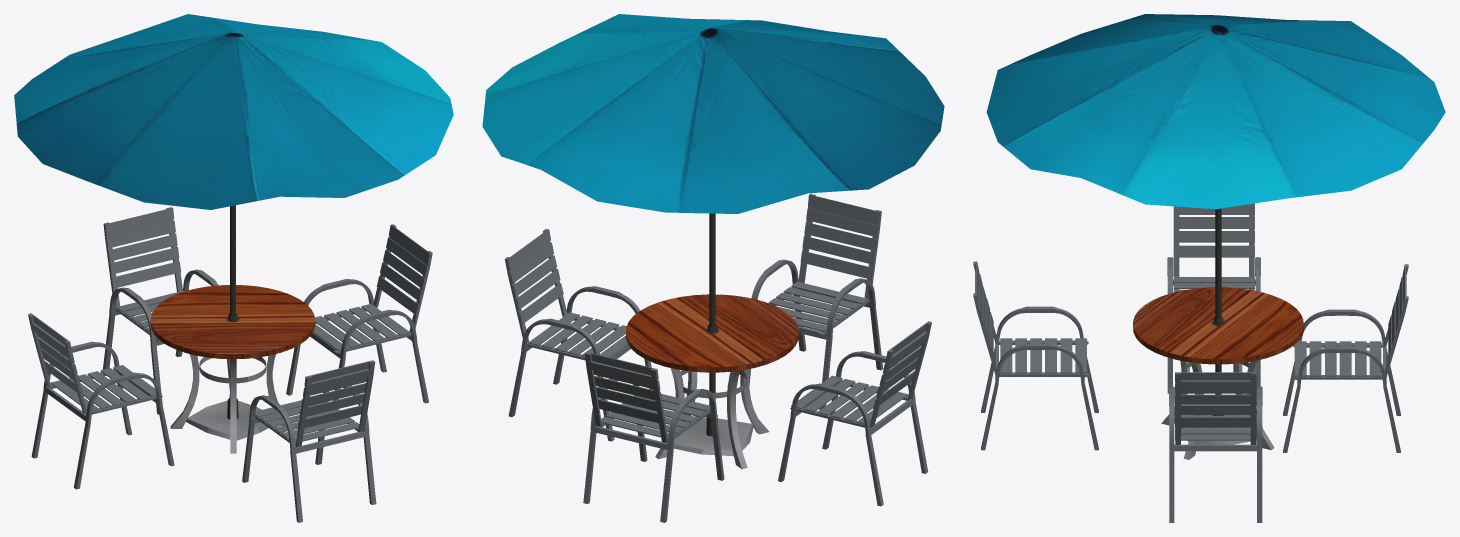
Rendered from cafeE-BfS8njAG.glb.
3 renders of one model, left to right at view 1: azimuth 30°, elevation 25°; view 2: azimuth 150°, elevation 25°; view 3: azimuth 270°, elevation 25°, orthographic. The views are drawn at different scales.
Visible parts, largest first — view 1: Object_56, Object_54, Object_60, Object_50, Object_58, Object_52; view 2: Object_56, Object_54, Object_60, Object_52, Object_50, Object_58; view 3: Object_56, Object_54, Object_50, Object_60, Object_52, Object_58.
Boxes of the visible parts, x1=… form: Object_56: x1=14, y1=14, x2=453, y2=419; Object_54: x1=150, y1=285, x2=314, y2=453; Object_60: x1=242, y1=360, x2=376, y2=522; Object_50: x1=286, y1=224, x2=432, y2=403; Object_58: x1=28, y1=313, x2=174, y2=489; Object_52: x1=102, y1=207, x2=229, y2=414; Object_56: x1=482, y1=14, x2=944, y2=436; Object_54: x1=626, y1=294, x2=798, y2=469; Object_60: x1=749, y1=194, x2=883, y2=410; Object_52: x1=583, y1=352, x2=724, y2=522; Object_50: x1=504, y1=229, x2=653, y2=441; Object_58: x1=778, y1=321, x2=931, y2=506; Object_56: x1=986, y1=14, x2=1445, y2=415; Object_54: x1=1133, y1=287, x2=1303, y2=459; Object_50: x1=1169, y1=372, x2=1262, y2=522; Object_60: x1=973, y1=261, x2=1098, y2=450; Object_52: x1=1283, y1=264, x2=1408, y2=452; Object_58: x1=1167, y1=203, x2=1260, y2=393.
Size of the model in its own units: 2.53 by 2.49 by 2.6.
Materials: 3 (3 with a texture image).
